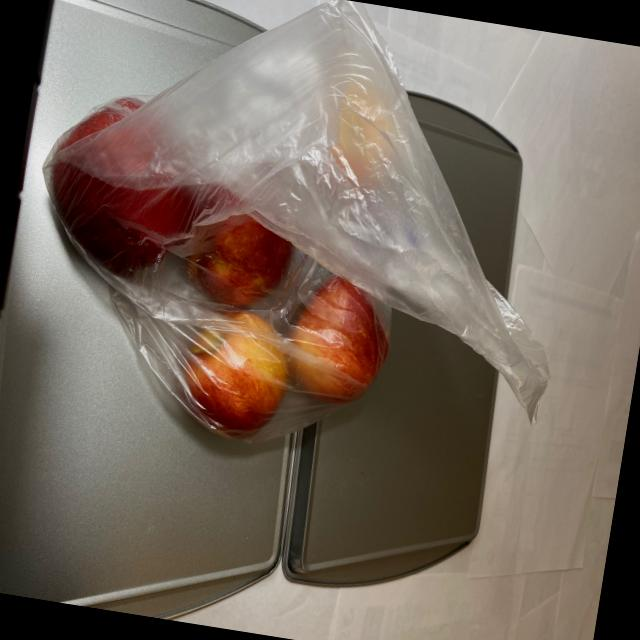apple: (6, 78, 436, 466)
